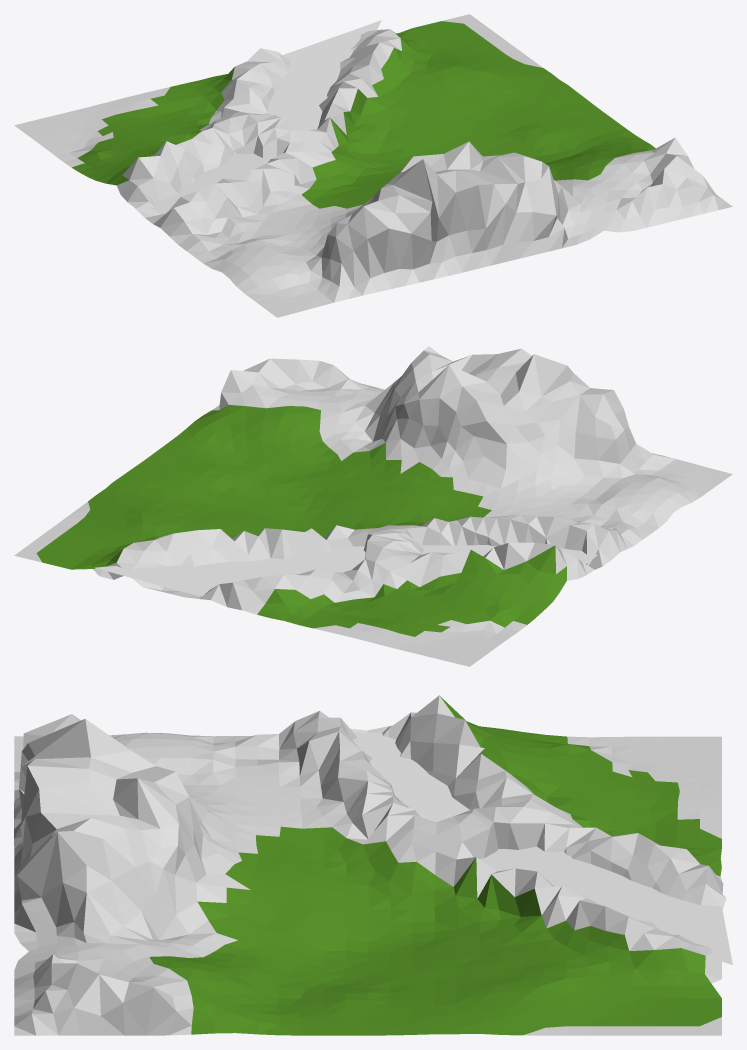
The model's file is Basegrounds.fbx.
3 renders of one model, top to bottom at view 1: azimuth 30°, elevation 25°; view 2: azimuth 150°, elevation 25°; view 3: azimuth 270°, elevation 25°, orthographic. The views are drawn at different scales.
Parts seen in each view (by area): view 1: Plane, Plane.001; view 2: Plane, Plane.001; view 3: Plane, Plane.001.
Part boxes in pixels (left/top/right/bottom): Plane: left=14, top=14, right=732, bottom=317; Plane.001: left=151, top=20, right=381, bottom=214; Plane: left=14, top=346, right=732, bottom=666; Plane.001: left=94, top=545, right=597, bottom=596; Plane: left=14, top=695, right=726, bottom=1035; Plane.001: left=353, top=731, right=732, bottom=964.
Bounding box in the file's own units: 81427 × 20797 × 82300.
